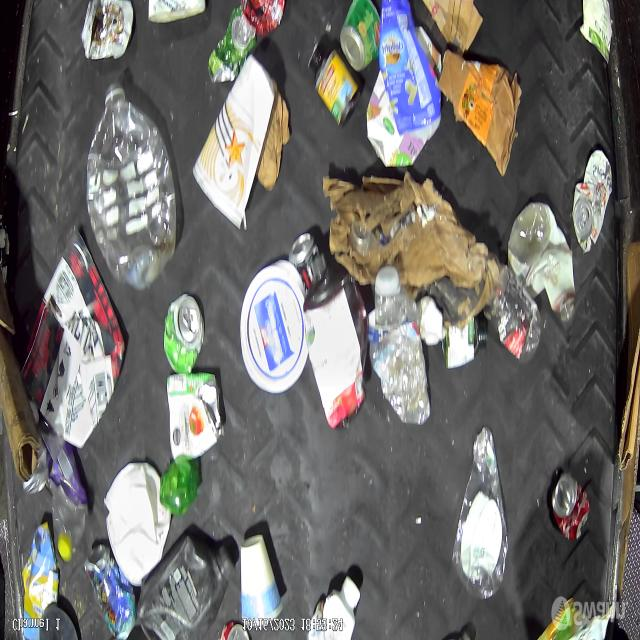can: (167, 371, 223, 461), (85, 545, 137, 640), (573, 150, 612, 254), (209, 5, 257, 84), (164, 293, 205, 373), (80, 0, 134, 60), (340, 0, 380, 72), (552, 473, 590, 542), (289, 233, 322, 293), (241, 0, 286, 35), (219, 621, 250, 640)
non_white_jug: (136, 531, 236, 640), (303, 272, 368, 430), (379, 0, 441, 140)
plastic_bottle: (87, 82, 177, 290), (451, 427, 509, 600), (369, 265, 431, 426), (507, 204, 576, 325), (488, 266, 542, 362), (47, 439, 87, 561)
